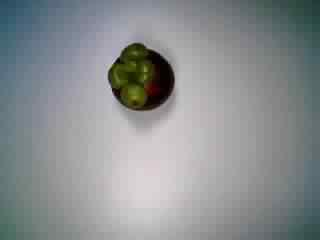mangosteen: (103, 38, 182, 116)
